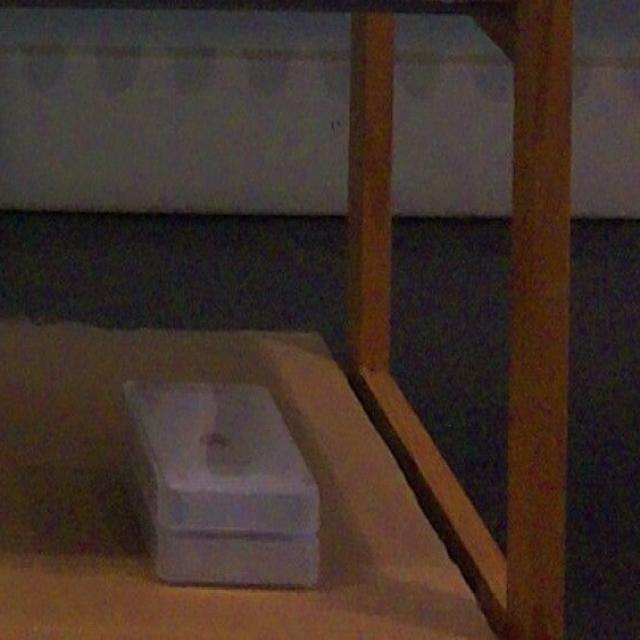Jasskarte: (119, 429, 319, 584), (121, 382, 319, 534)
